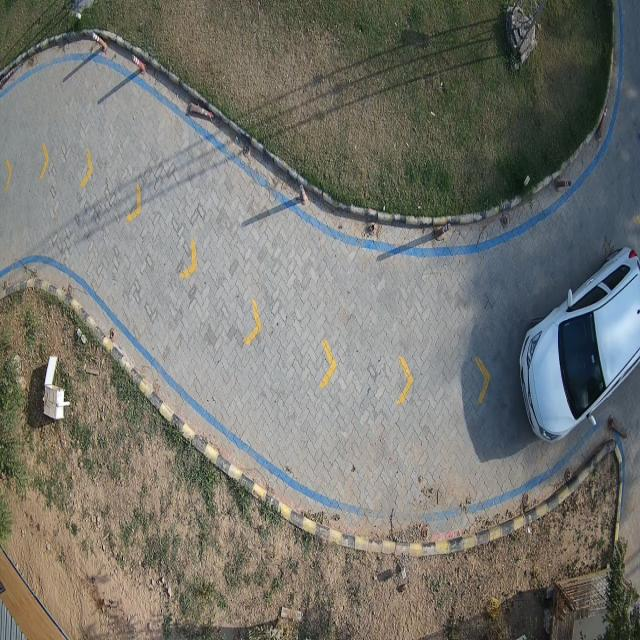car: (520, 247, 640, 442)
